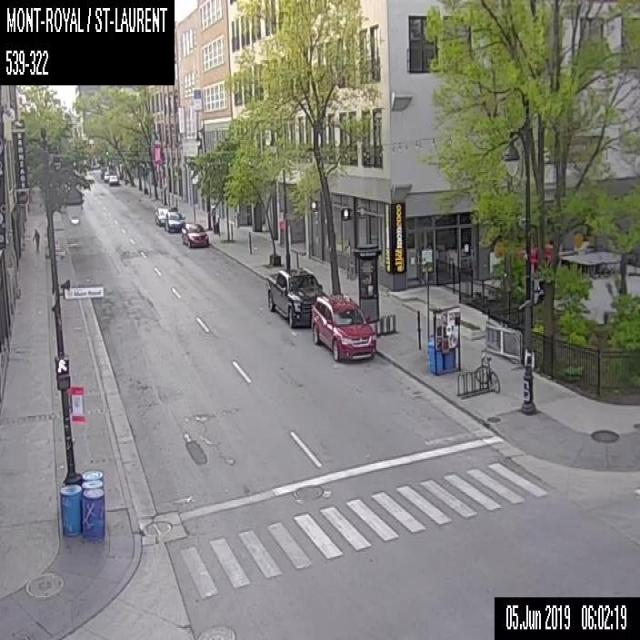pedestrian: (31, 227, 39, 252)
vehicle: (311, 295, 375, 360), (266, 266, 324, 328), (181, 222, 208, 247), (165, 210, 184, 232), (154, 206, 168, 226), (109, 173, 118, 184), (103, 170, 110, 180)
